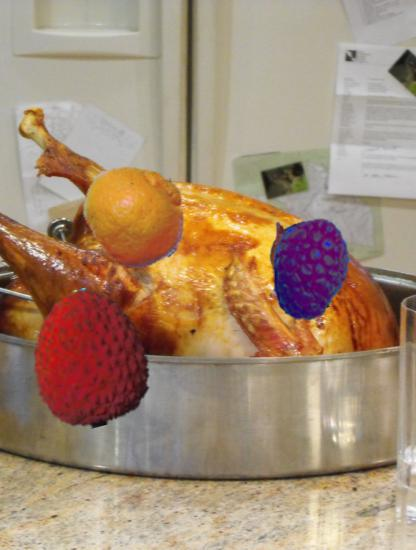Granadilla: (251, 217, 337, 303)
Lychee: (20, 289, 159, 428)
Mandarine: (82, 159, 191, 268)
Raspberry: (260, 218, 364, 322)
Salak: (253, 214, 353, 314)
